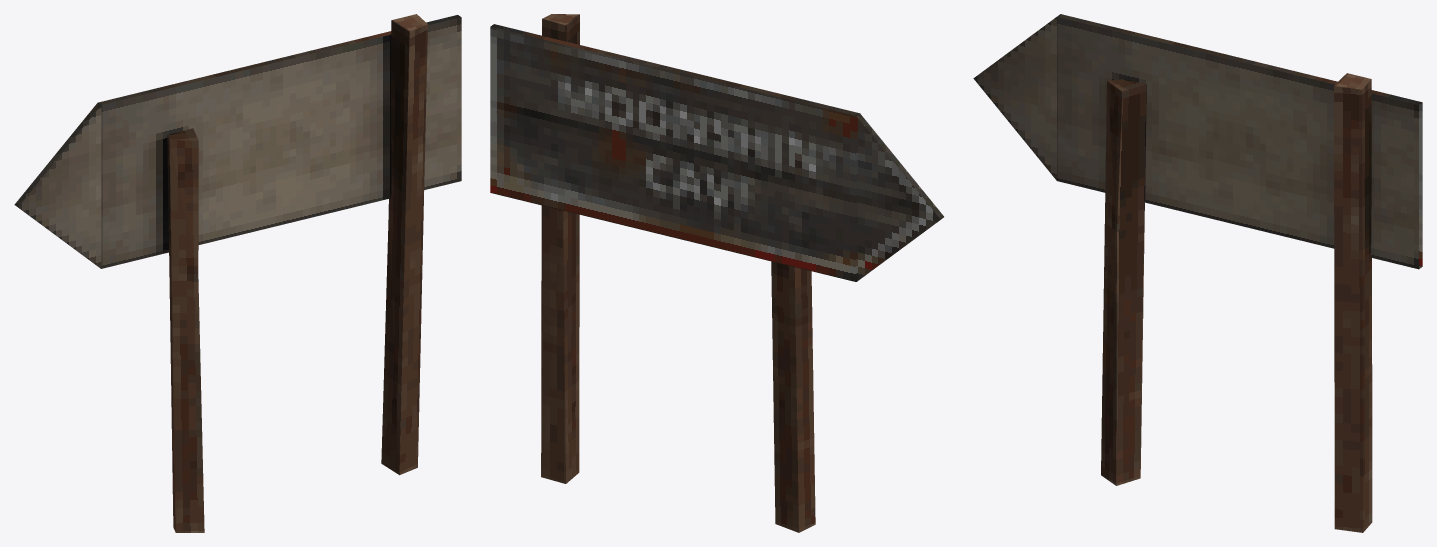
The model's file is Sign_01.glb.
3 renders of one model, left to right at view 1: azimuth 30°, elevation 25°; view 2: azimuth 150°, elevation 25°; view 3: azimuth 330°, elevation 25°, orthographic.
Visible parts, largest first — view 1: Sign_01; view 2: Sign_01; view 3: Sign_01.
Boxes of the visible parts, x1,y1,x2,y2 form: Sign_01: (14,14,461,532); Sign_01: (490,14,943,532); Sign_01: (973,14,1422,532).
Size of the model in its own units: 6.53 by 6.32 by 0.6835.
Materials: 1 (1 with a texture image).
